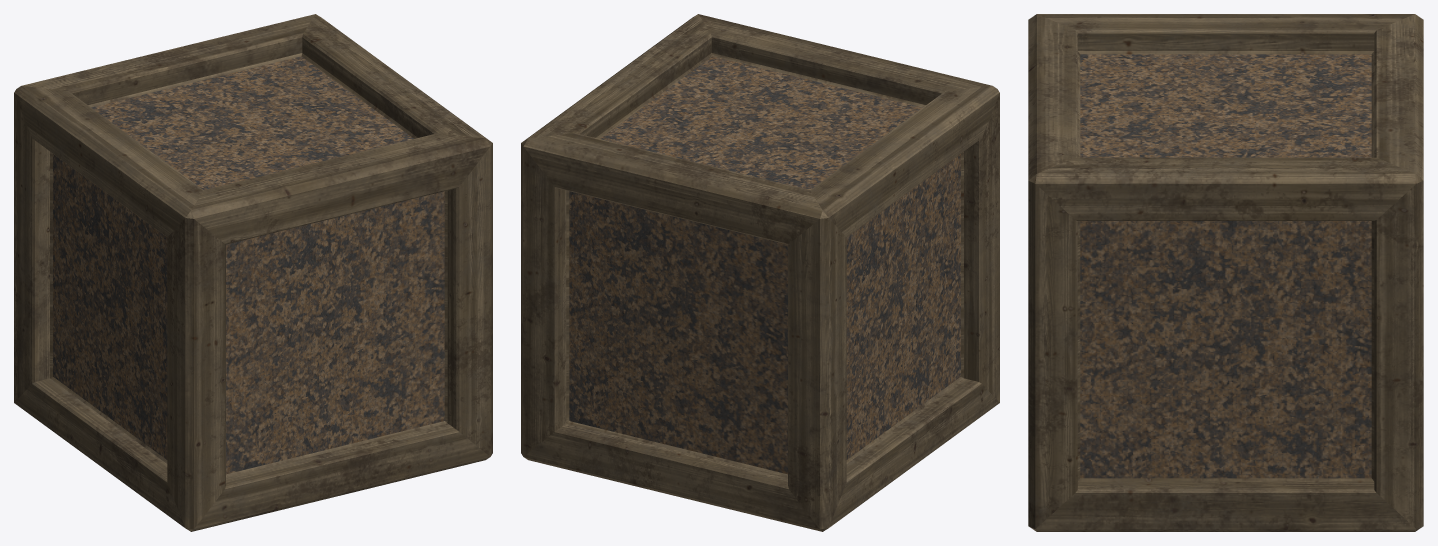
The model's file is BoxCrate_Clean.fbx.
3 renders of one model, left to right at view 1: azimuth 30°, elevation 25°; view 2: azimuth 150°, elevation 25°; view 3: azimuth 270°, elevation 25°, orthographic. The views are drawn at different scales.
Parts seen in each view (by area): view 1: BoxCrate_Clean; view 2: BoxCrate_Clean; view 3: BoxCrate_Clean.
Part boxes in pixels (x1=…): BoxCrate_Clean: x1=14, y1=14, x2=492, y2=531; BoxCrate_Clean: x1=521, y1=14, x2=999, y2=531; BoxCrate_Clean: x1=1028, y1=14, x2=1423, y2=531.
Size of the model in its own units: 80 by 80 by 80.
2 materials, 2 textured.
